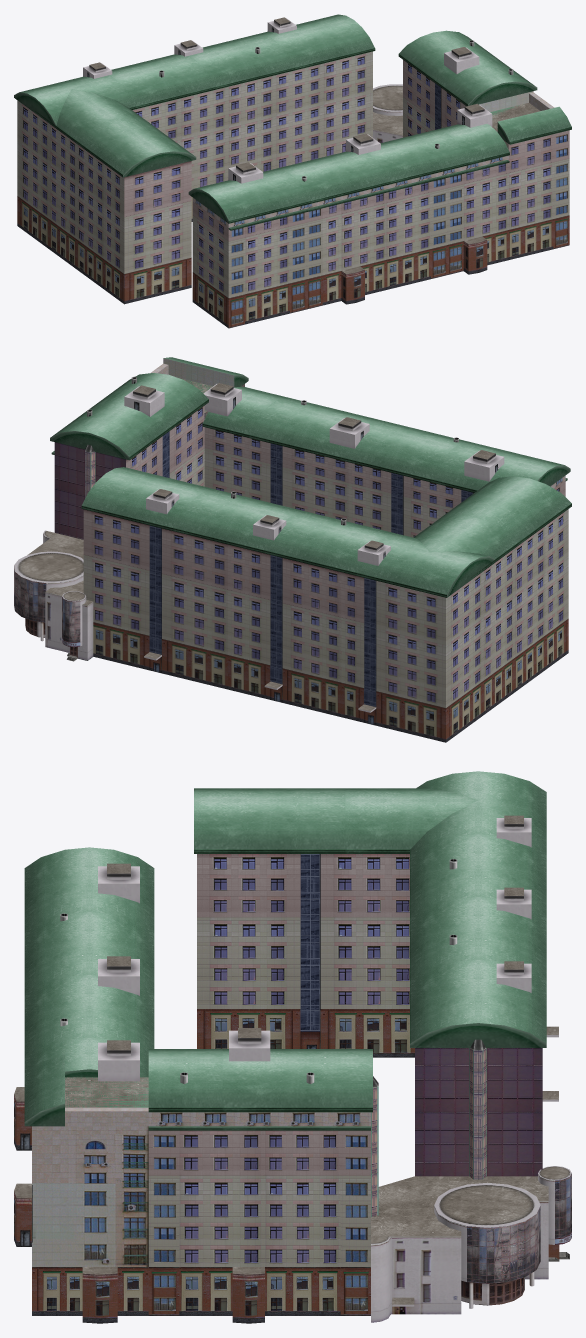
The model's file is house_34_office.FBX.
3 renders of one model, top to bottom at view 1: azimuth 30°, elevation 25°; view 2: azimuth 150°, elevation 25°; view 3: azimuth 270°, elevation 25°, orthographic. The views are drawn at different scales.
Visible parts, largest first — view 1: house_34_office; view 2: house_34_office; view 3: house_34_office.
Boxes of the visible parts, <box> form: house_34_office: <box>14,14,571,328</box>; house_34_office: <box>14,357,571,742</box>; house_34_office: <box>14,771,571,1323</box>.
Size of the model in its own units: 104 by 37.96 by 76.56.
